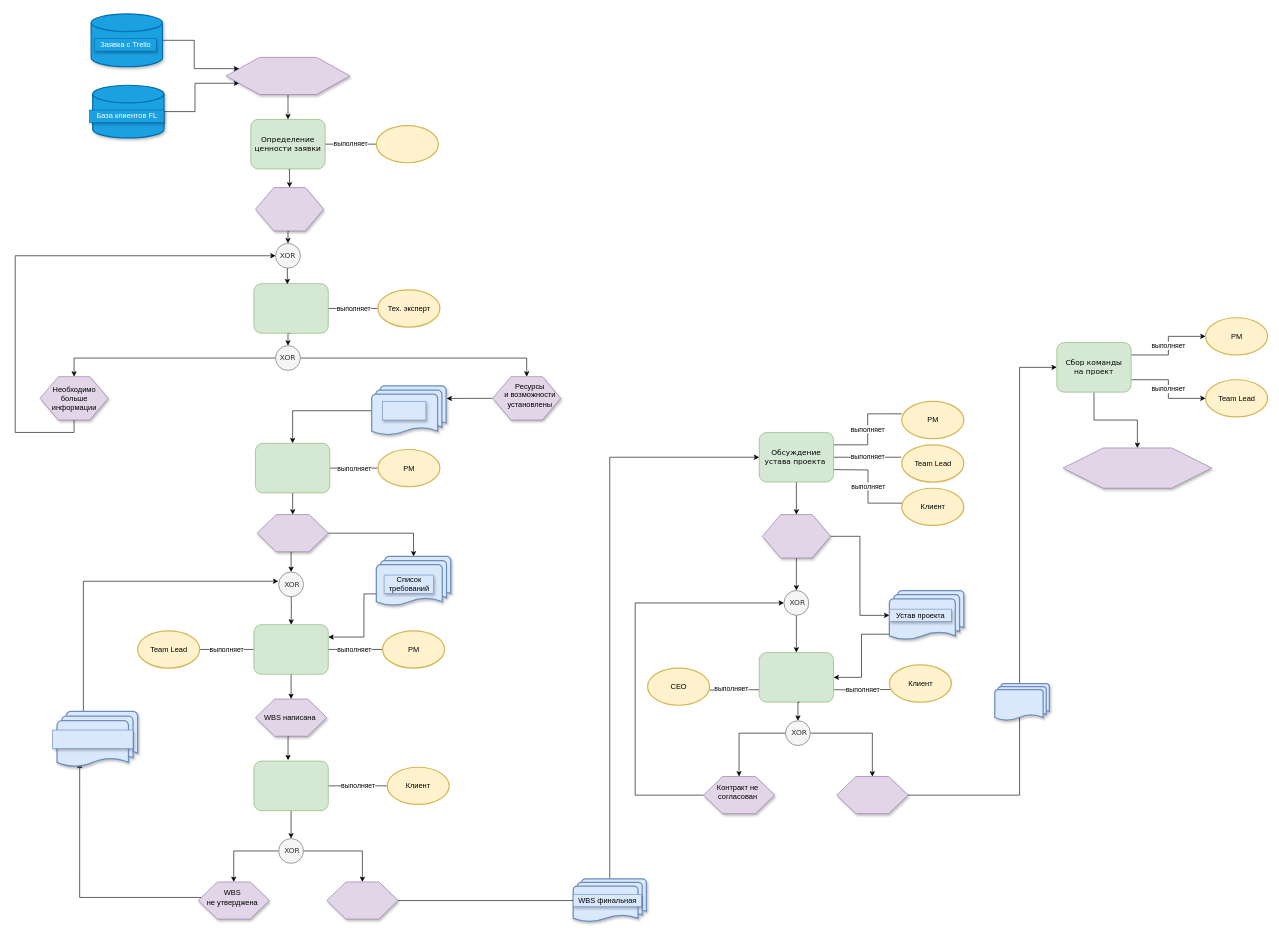
Image size: 1279x937. Some labels were removed from this diagram. The shapes that lost their labels are listed below. From the top down, each one's centre as x and y in pixels, then its label:
(288,76): Заявка принята на рассмотрение
(407,144): Пресейлер
(289,209): Заявка оценена
(290,308): Определение возможностей и ресурсов для выполнения
(404,411): Отчет по ресурсам
(292,468): Обсуждение ТЗ с клиентом
(1138,469): Команда собрана и готова приступить к разработке
(293,534): Требования клиента установлены
(796,537): Сформирован устав проекта
(290,649): Написание WBS
(796,677): Подписание контракта
(1022,702): Контракт проекта
(93,740): WBS (не окончательная)
(290,785): Утверждение WBS
(873,795): Контракт согласован
(363,901): WBS утверждена
